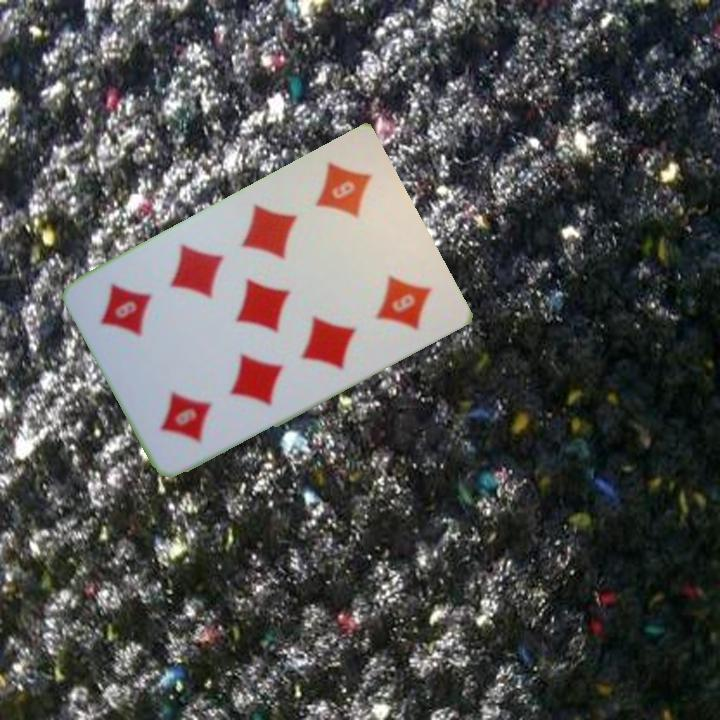d_9.png: (287, 143, 408, 270), (124, 338, 245, 464)
